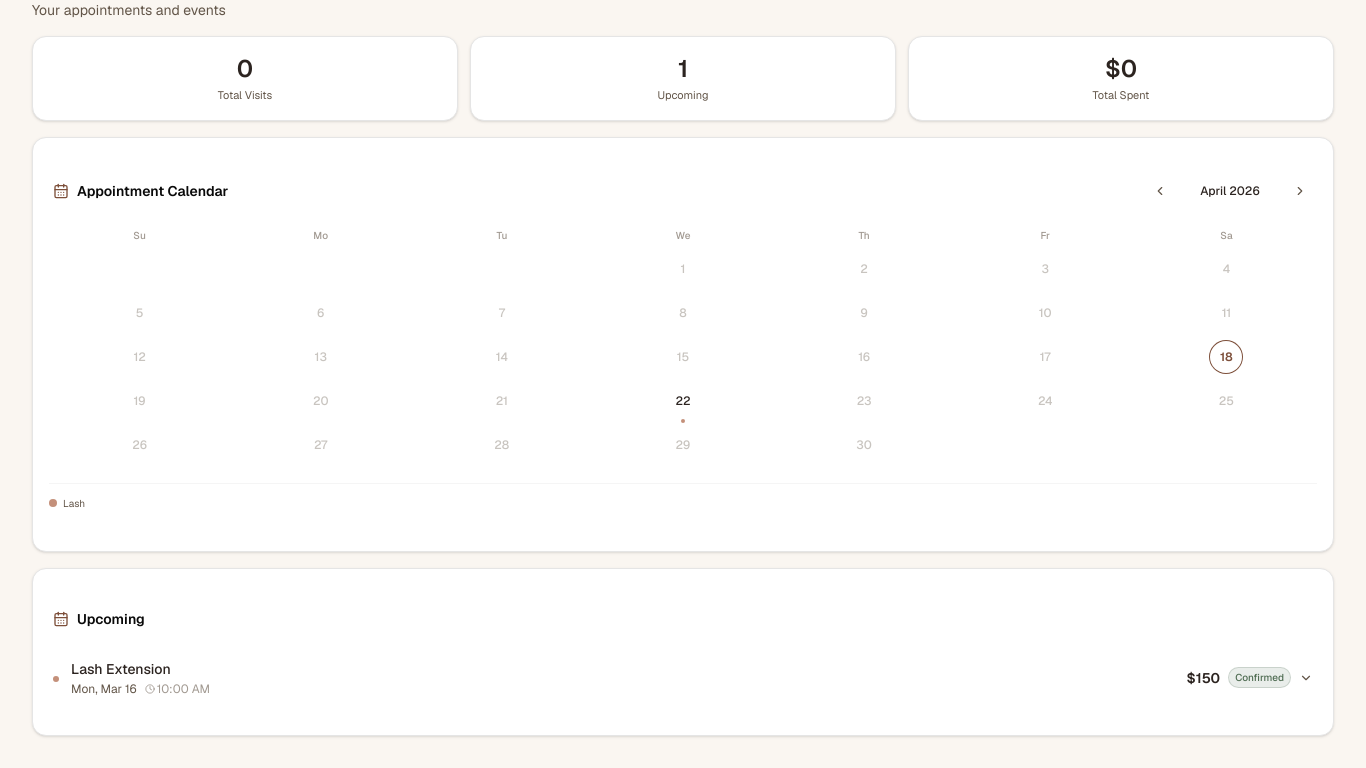
Test: ClientBookingsPage › cancel action › shows cancel button for cancellable upcoming bookings
The width and height of the screenshot is (1366, 768).
(page scrolled)
Click the button "Lash Extension" at (121, 668), box [33,644,1333,710]
(page scrolled)
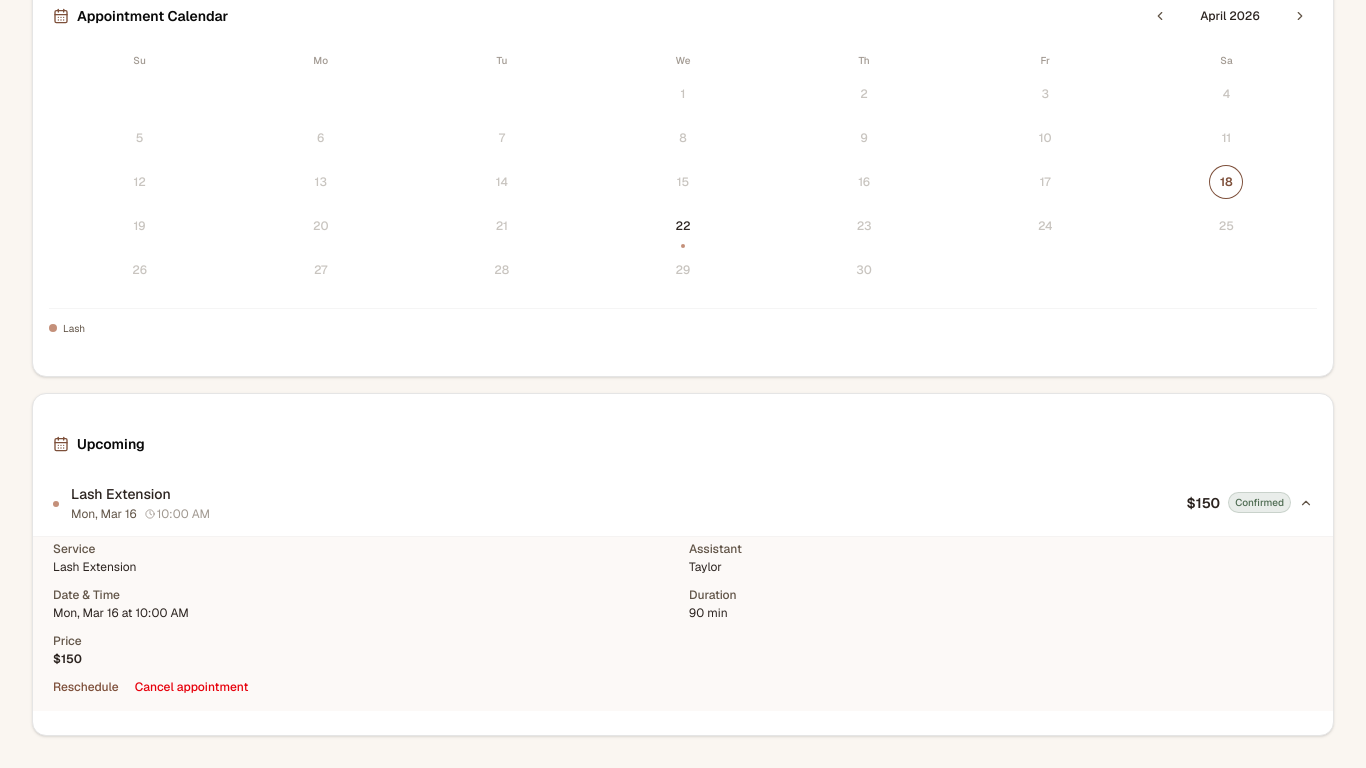
Expected: the button "Cancel appointment" is shown, [135,678,248,694]
